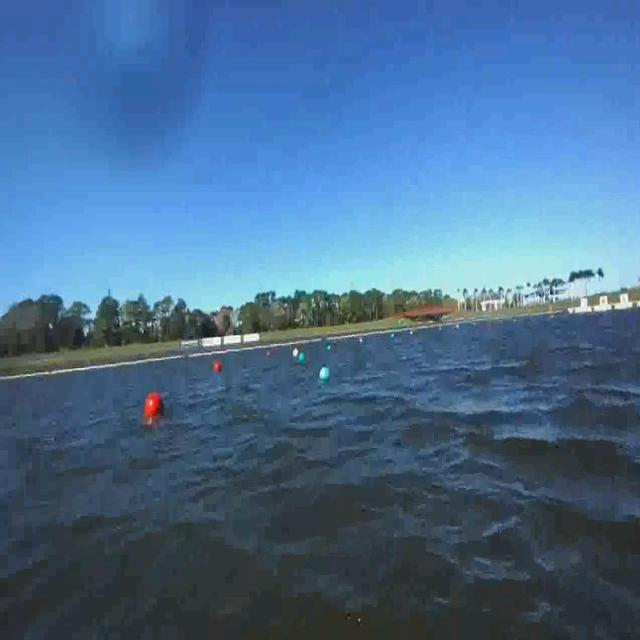green-buoy: (318, 361, 329, 384)
red-buoy: (146, 394, 165, 418)
